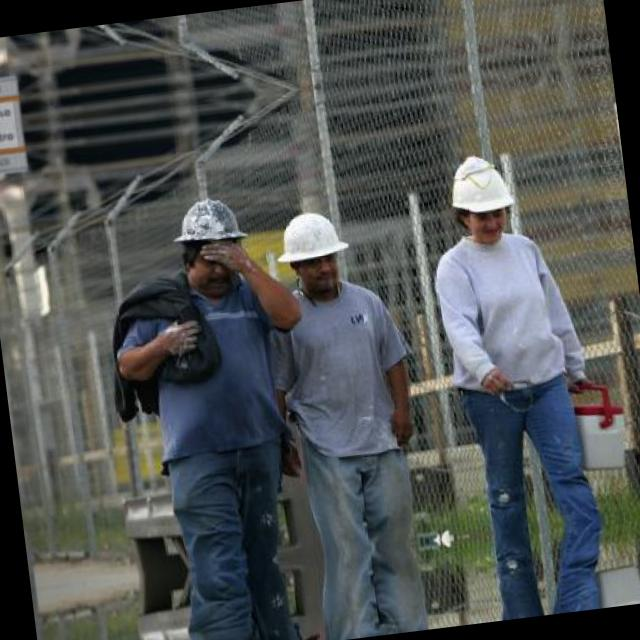helmet: (162, 178, 260, 302), (438, 137, 532, 260), (266, 196, 364, 312)
